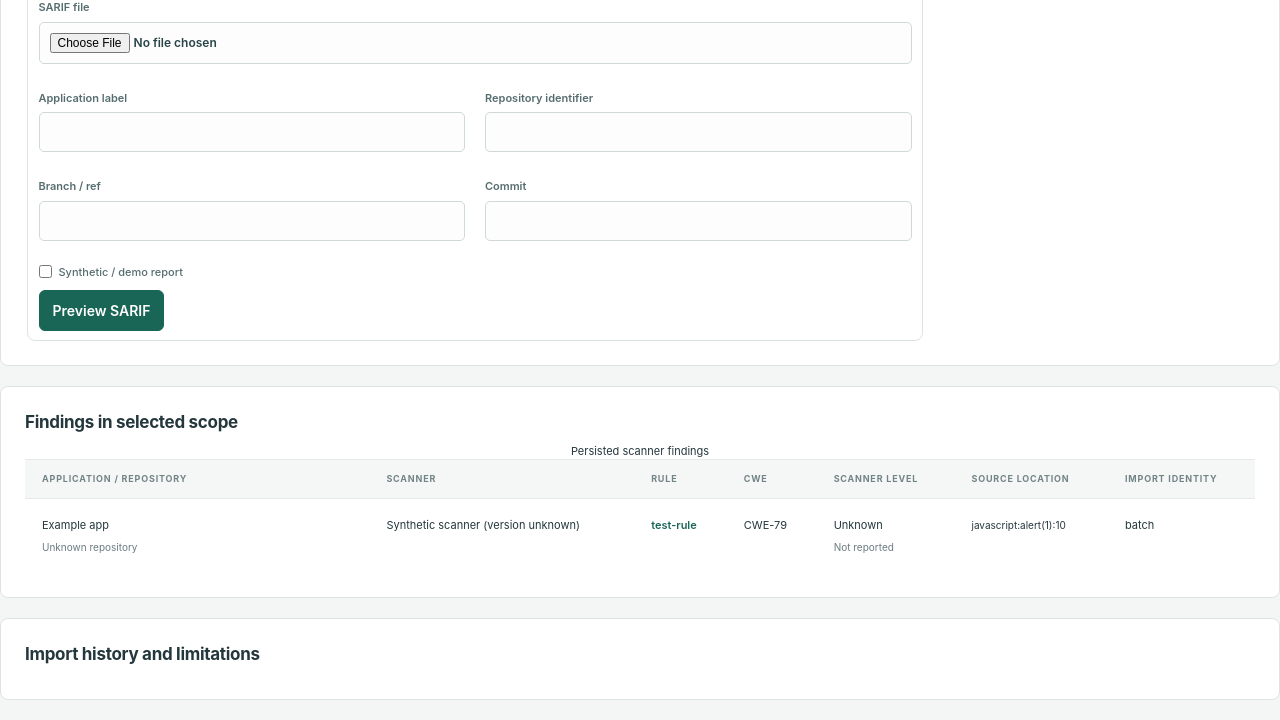
Test case: renders the persisted resolved message as literal text: Literal {0}; value <img src=x onerror="alert(1)"> {1}
(page scrolled)
Click the button with aria-label "Inspect test-rule finding". click: (674, 526)
box: [651,517,697,534]
(page scrolled)
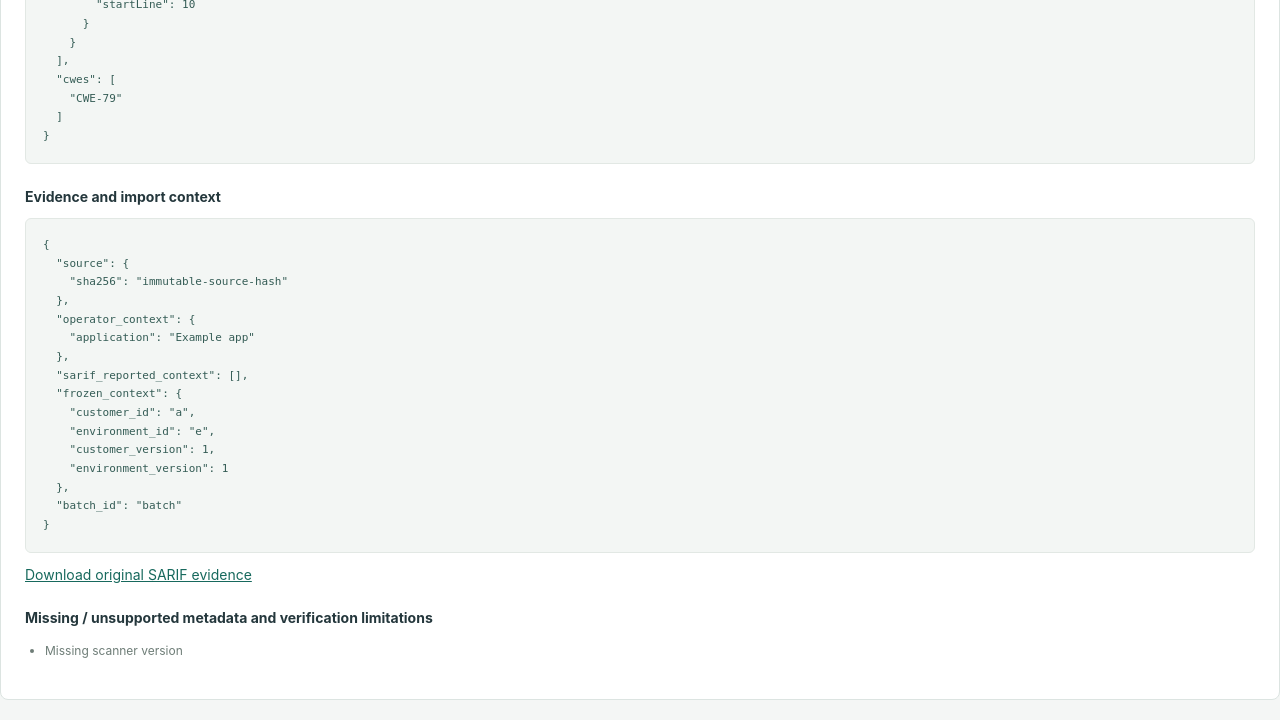
Check: the text "immutable-source-hash" is shown, box [43,238,288,531]
